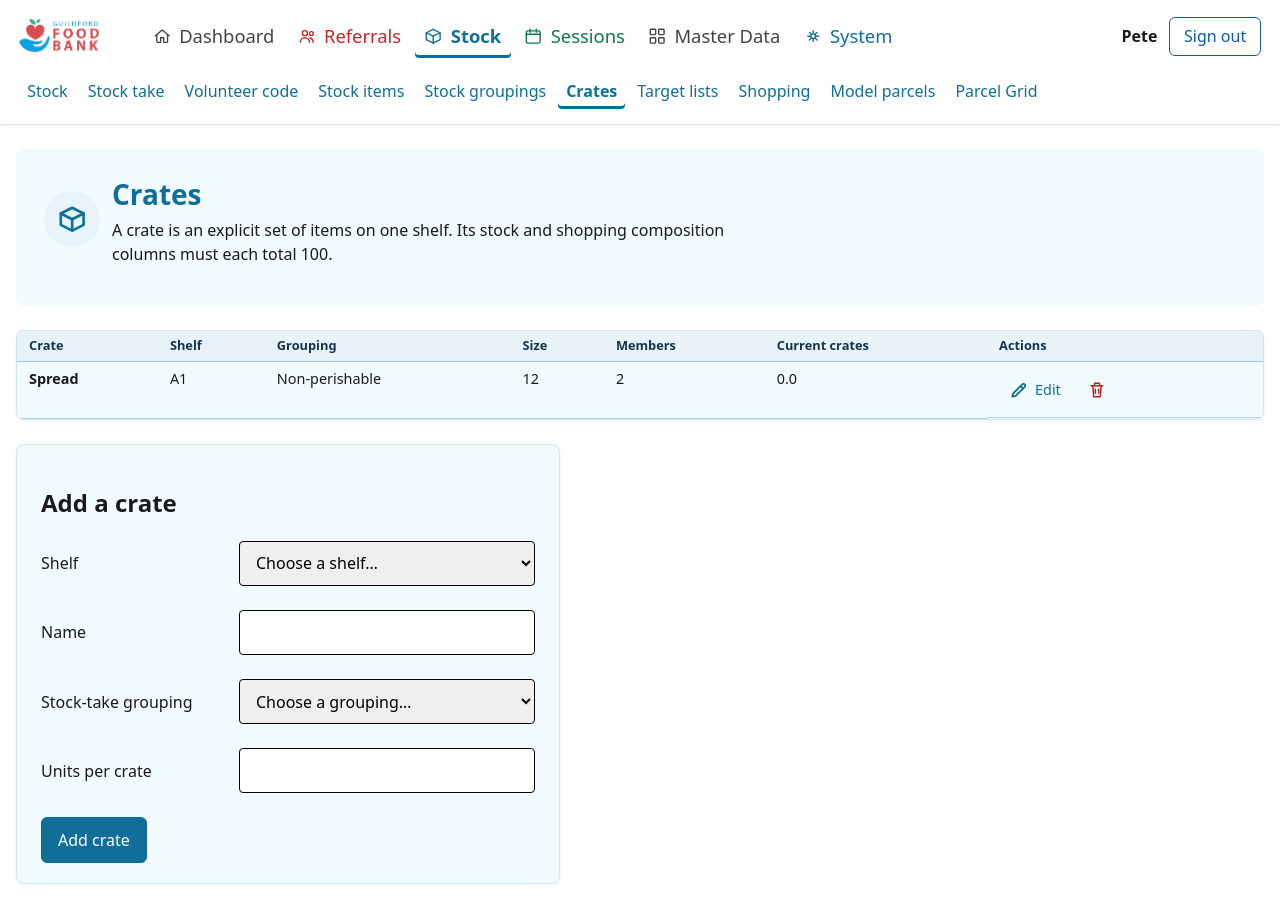
Test: crate composition inputs › keeps a retired existing member visible while its crate is being amended
The width and height of the screenshot is (1280, 900).
Click the button with aria-label "Edit Spread": {"x": 1035, "y": 390} [999,368,1071,412]
(page scrolled)
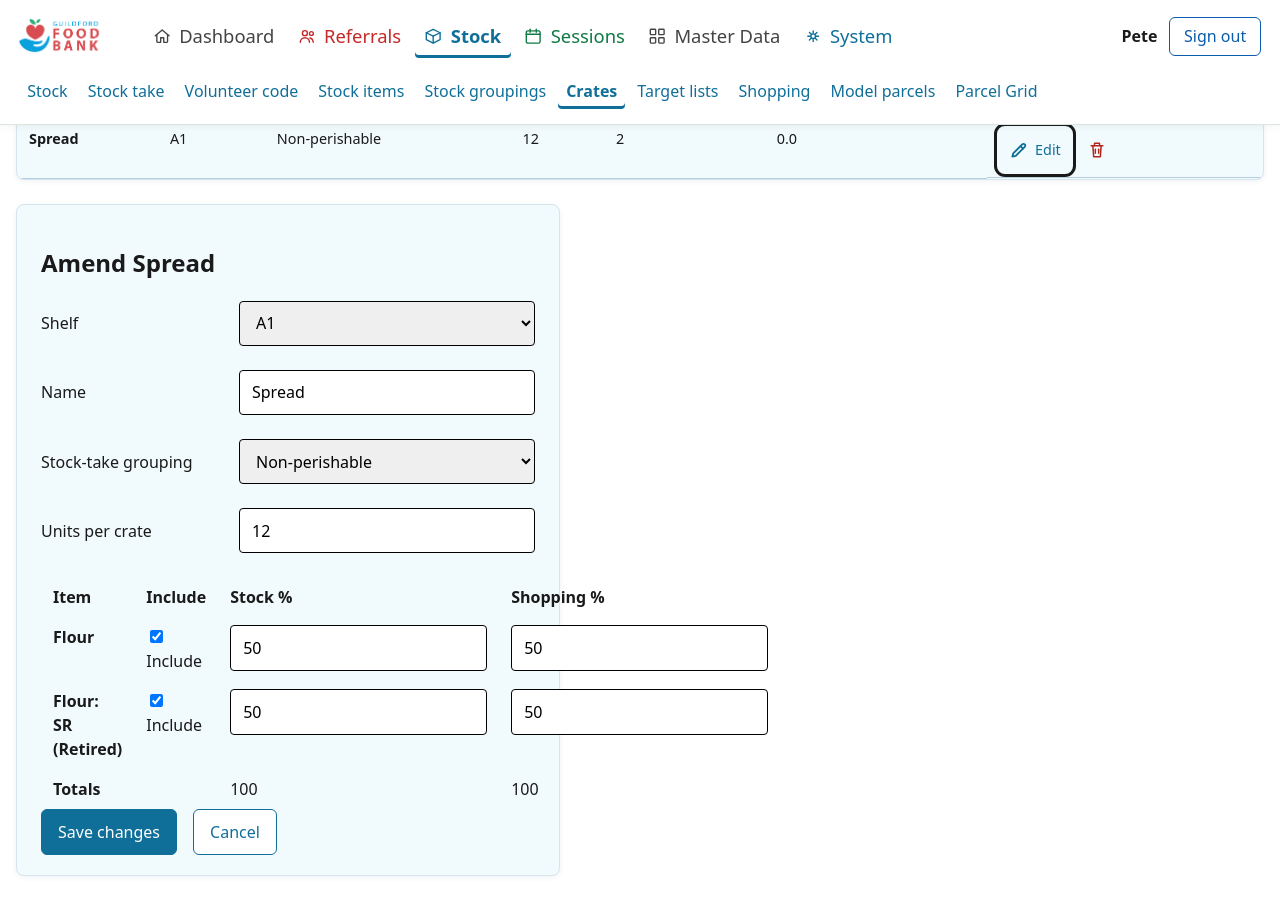
Expected: the checkbox labelled "Include" next to "Flour: SR" is checked, [150,694,163,707]
